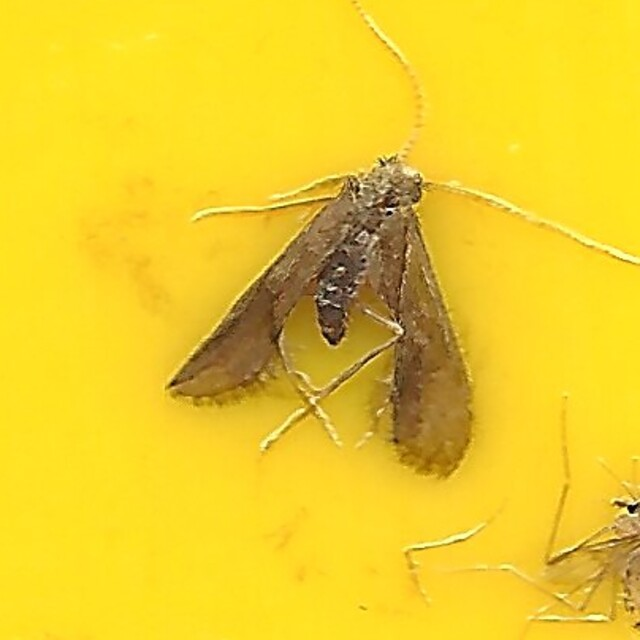Trichoptera: (158, 148, 482, 492)
